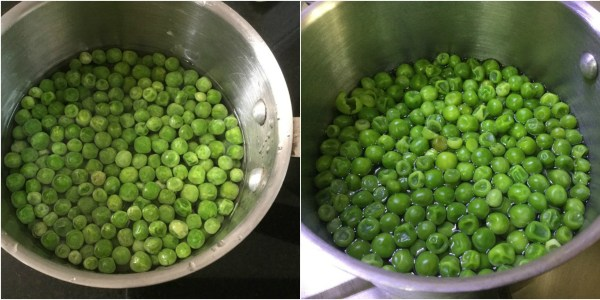boiled peas: (30, 72, 231, 227), (363, 81, 536, 237)
